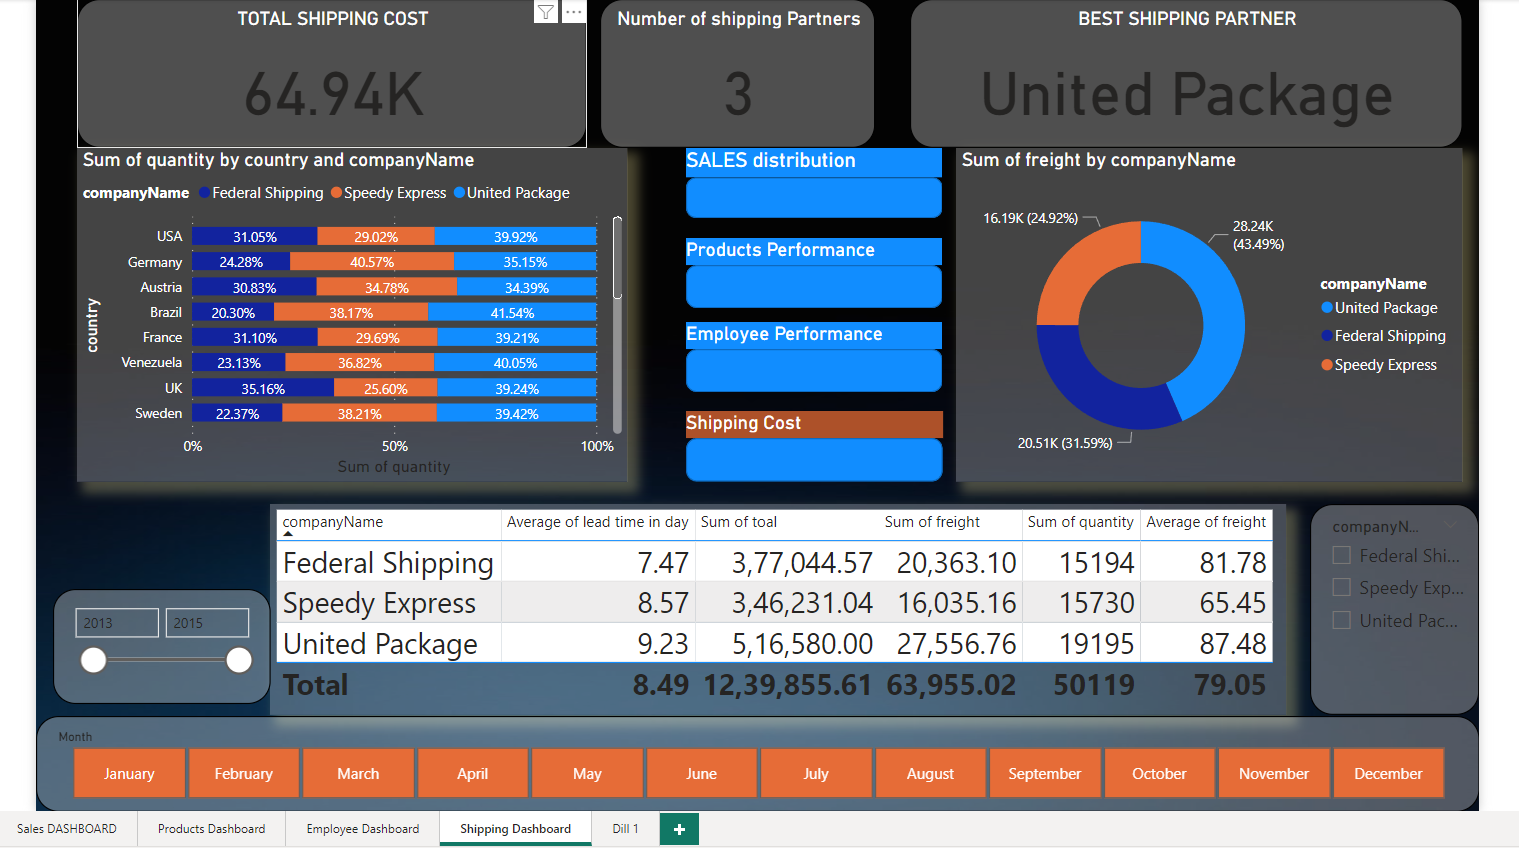

This screenshot's page, from the dashboard's own definition file:
{"tool":"powerbi","page":{"name":"Shipping Dashboard","canvas":[1280,720],"ordinal":3},"visuals":[{"type":"shape","title":"SALES distribution","box":[576.3,131.9,227.5,62.2],"z":0},{"type":"shape","title":"Products Performance","box":[576.3,212.3,227.5,62.2],"z":1000},{"type":"shape","title":"Employee Performance","box":[576.3,286.6,227.5,62.2],"z":2000},{"type":"shape","title":"Shipping Cost","box":[576.5,365.7,227.6,62.6],"z":3000},{"type":"donutChart","fields":{"Category":["shippers.companyName"],"Y":["Sum(orders.freight)"]},"box":[815.9,131.9,448.9,295.7],"z":4000},{"type":"hundredPercentStackedBarChart","fields":{"Category":["customers.country"],"Y":["Sum(order_details.quantity)"],"Series":["shippers.companyName"]},"box":[36.4,131.9,488.3,295.7],"z":5000},{"type":"tableEx","fields":{"Values":["shippers.companyName","Avg(orders.lead time in day)","Sum(order_details.toal)","Sum(orders.freight)","Sum(order_details.quantity)","Avg(orders.freight)"]},"box":[207.8,447.4,900.9,186.5],"z":6000},{"type":"card","title":"TOTAL SHIPPING COST","fields":{"Values":["Sum(orders.freight)"]},"box":[36.4,0,451.9,131.9],"z":7000},{"type":"card","title":"Number of shipping Partners","fields":{"Values":["CountNonNull(shippers.shipperID)"]},"box":[500.5,0,244.2,131.9],"z":8000},{"type":"card","title":"BEST SHIPPING PARTNER","fields":{"Values":["Min(shippers.companyName)"]},"box":[775,0,489.9,131.9],"z":9000},{"type":"slicer","fields":{"Values":["orders.orderDate.Variation.Date Hierarchy.Year"]},"box":[15.2,523.2,192.6,101.6],"z":10000},{"type":"slicer","fields":{"Values":["orders.orderDate.Variation.Date Hierarchy.Month"]},"box":[0,635.5,1280,84.9],"z":11000},{"type":"slicer","fields":{"Values":["shippers.companyName"]},"box":[1129.9,447.4,150.1,186.5],"z":12000}]}

Visuals, with their boxes on the page's 1280x720 design canvas (x1, y1, x2, y2). These are canvas units, not pixel positions in the 1519x848 screenshot, which may show the page scaled, cropped or inside an application window:
"SALES distribution" shape: bbox(576, 132, 804, 194)
"Products Performance" shape: bbox(576, 212, 804, 274)
"Employee Performance" shape: bbox(576, 287, 804, 349)
"Shipping Cost" shape: bbox(576, 366, 804, 428)
donutChart - shippers.companyName x Sum(orders.freight): bbox(816, 132, 1265, 428)
hundredPercentStackedBarChart - customers.country x Sum(order_details.quantity): bbox(36, 132, 525, 428)
tableEx - shippers.companyName x Avg(orders.lead time in day): bbox(208, 447, 1109, 634)
"TOTAL SHIPPING COST" card: bbox(36, 0, 488, 132)
"Number of shipping Partners" card: bbox(500, 0, 745, 132)
"BEST SHIPPING PARTNER" card: bbox(775, 0, 1265, 132)
slicer - orders.orderDate.Variation.Date Hierarchy.Year: bbox(15, 523, 208, 625)
slicer - orders.orderDate.Variation.Date Hierarchy.Month: bbox(0, 636, 1280, 720)
slicer - shippers.companyName: bbox(1130, 447, 1280, 634)
